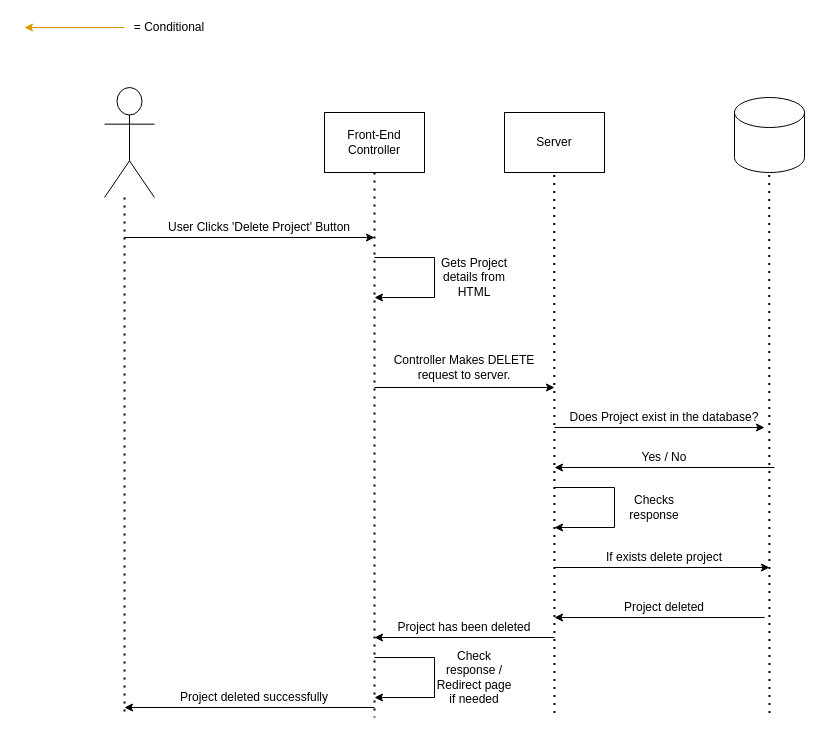
Some shapes in this 822 by 736 pixel diagram are drawn without their labels. Each missing label, with the centre of its shape:
Actor: pixel 129 142
Database: pixel 769 134
